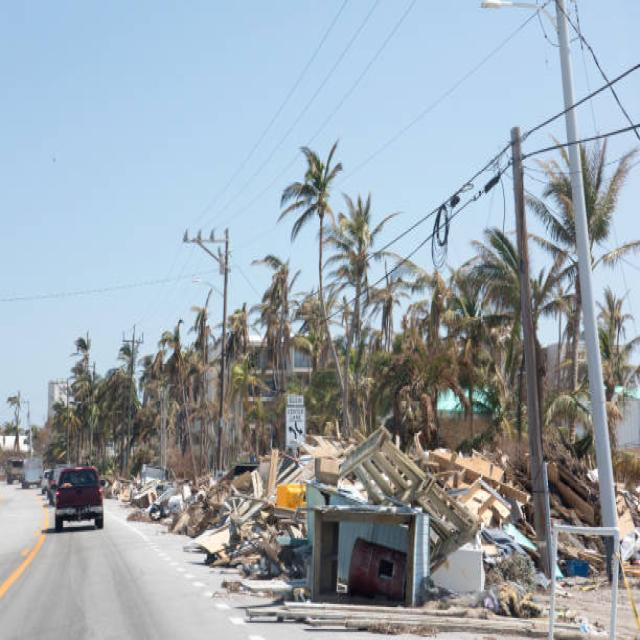cardboard: (192, 448, 514, 584)
